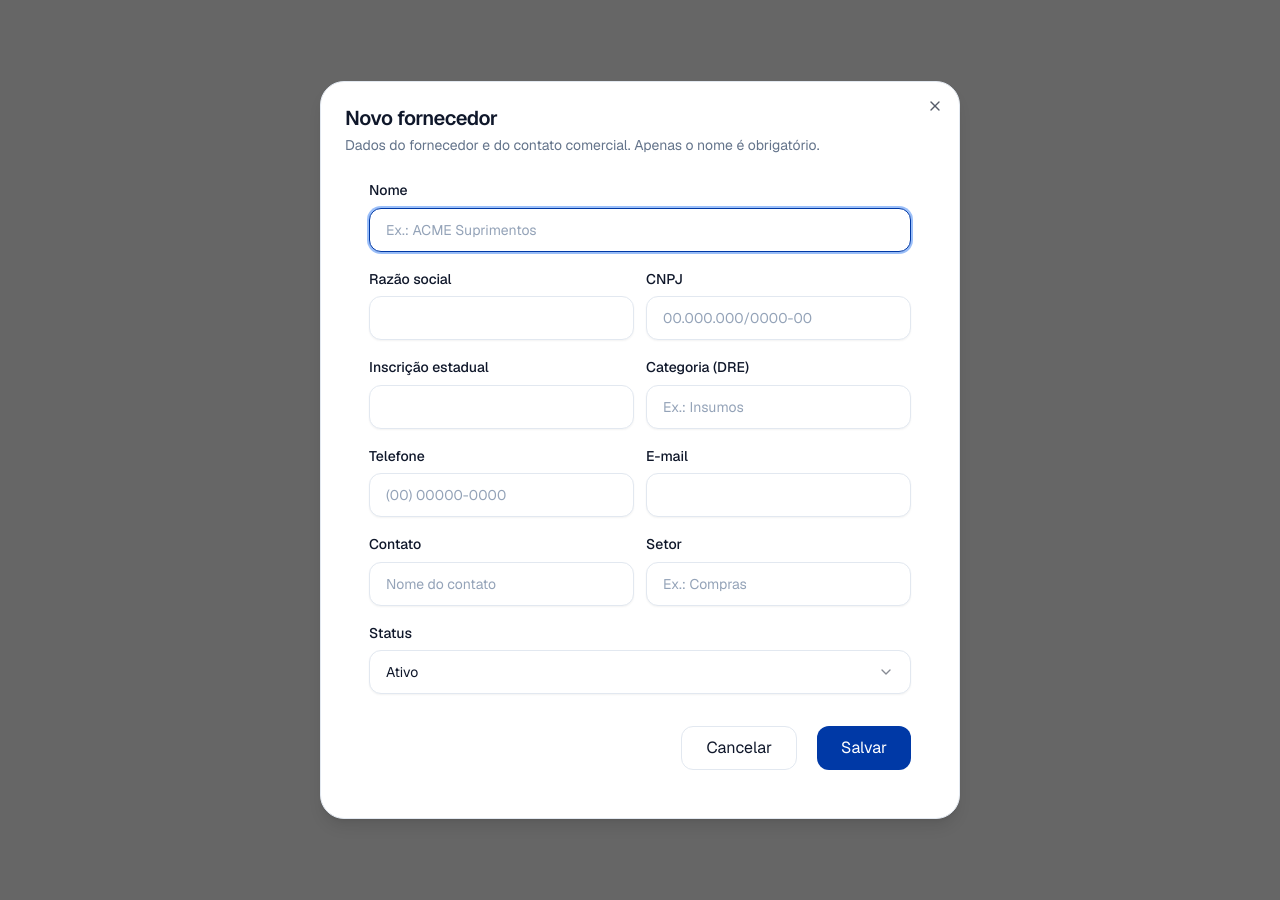
it: FornecedorModal — CNPJ › recusa letra digitada na posição dos dígitos verificadores
The image size is (1280, 900).
Type "12ABC34501DEAB" into the field labelled "CNPJ" at (778, 318), box [646,296,911,340]
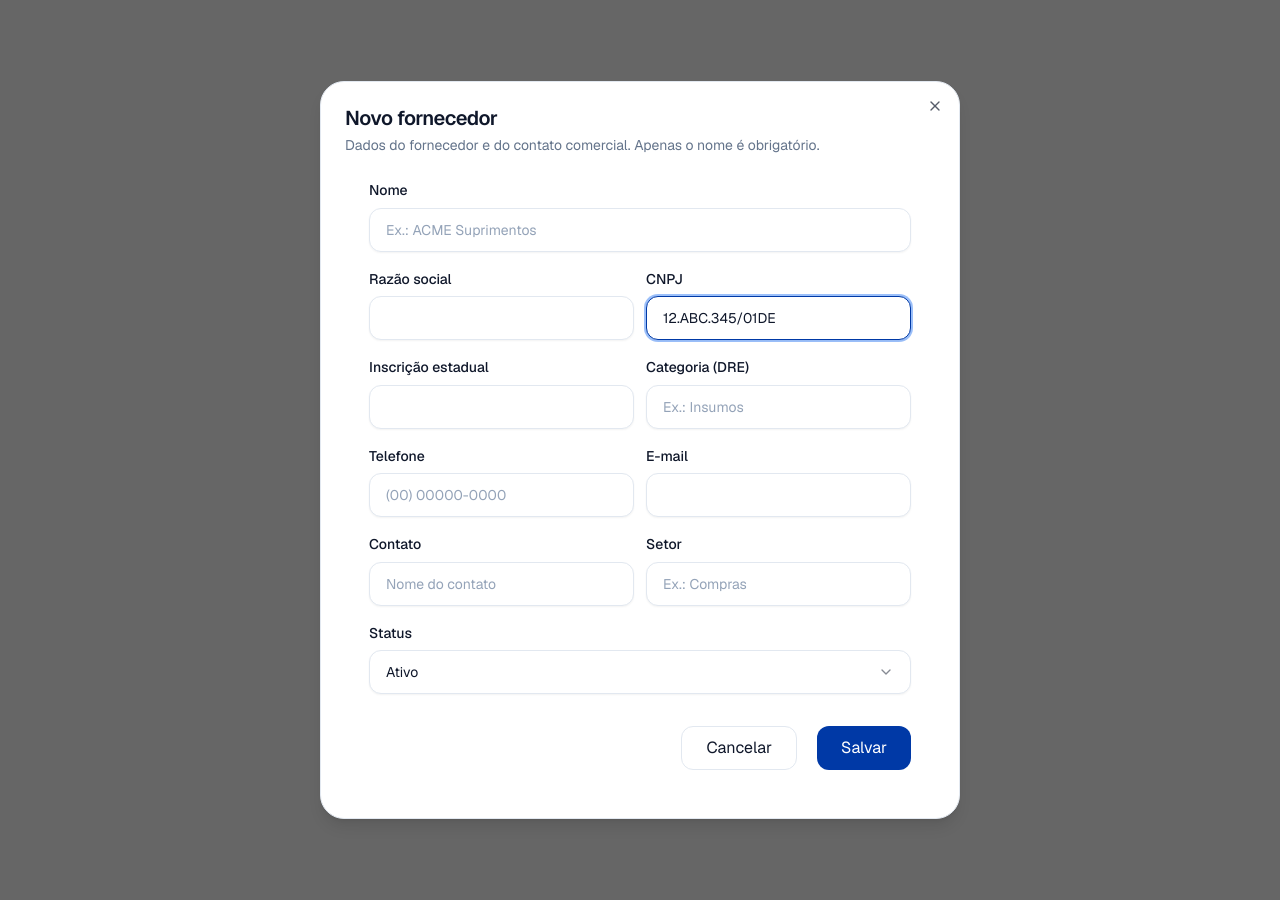
Check: the field labelled "CNPJ" holds "12.ABC.345/01DE", box [646,296,911,340]
